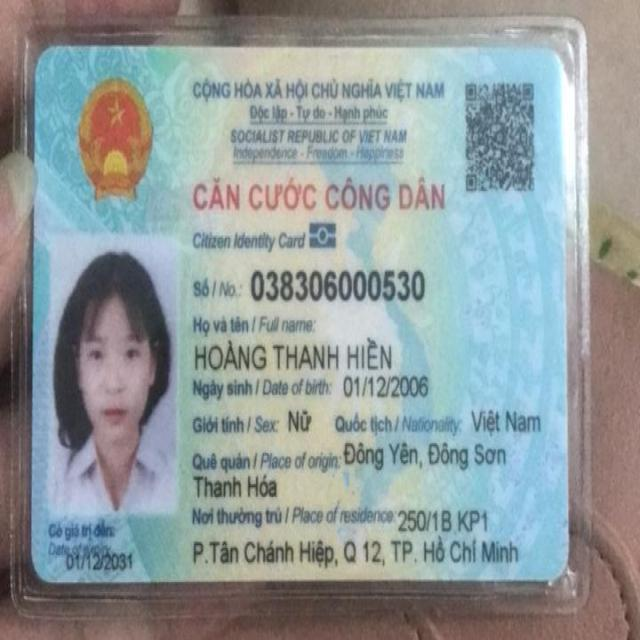bottom_left: (18, 543, 76, 596)
bottom_right: (540, 543, 589, 596)
image_person: (44, 230, 188, 522)
top_left: (24, 32, 79, 96)
top_right: (528, 30, 584, 86)
